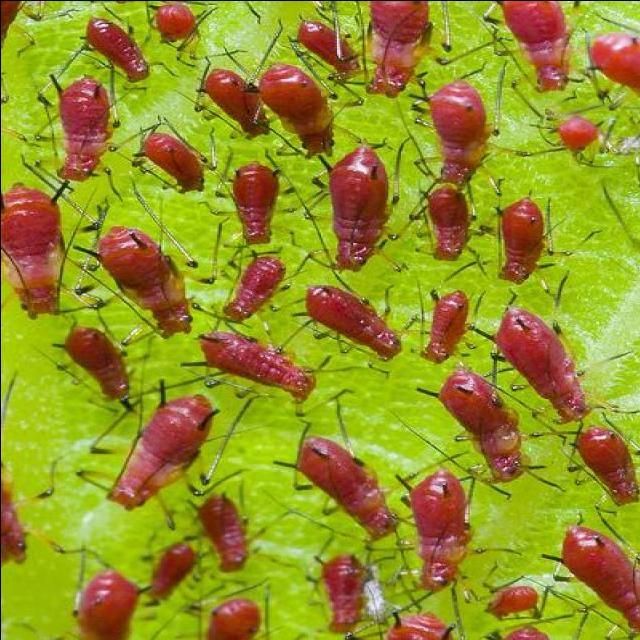aphid: (77, 392, 256, 522), (21, 56, 148, 232), (458, 290, 614, 426), (260, 412, 420, 542), (312, 124, 414, 297), (176, 326, 346, 414), (433, 362, 538, 496), (488, 172, 571, 304), (198, 155, 292, 270)
